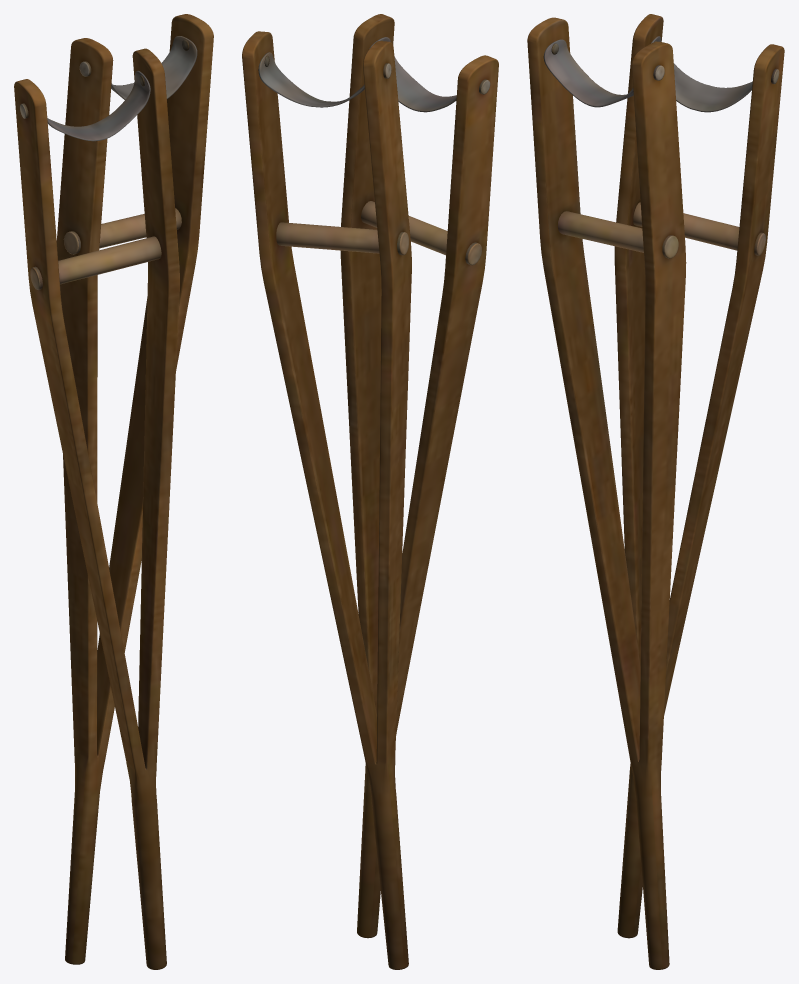
File: vintage_crutches_01.glb
The picture shows the model from 3 angles, left to right: view 1: azimuth 30°, elevation 25°; view 2: azimuth 150°, elevation 25°; view 3: azimuth 330°, elevation 25°; orthographic projection.
Visible parts, largest first — view 1: vintage_crutches_01_crutch01, vintage_crutches_01_crutch02; view 2: vintage_crutches_01_crutch02, vintage_crutches_01_crutch01; view 3: vintage_crutches_01_crutch01, vintage_crutches_01_crutch02.
Boxes of the visible parts, bbox=[...] form: vintage_crutches_01_crutch01: bbox=[14, 48, 179, 969]; vintage_crutches_01_crutch02: bbox=[56, 14, 213, 964]; vintage_crutches_01_crutch02: bbox=[242, 31, 411, 969]; vintage_crutches_01_crutch01: bbox=[340, 14, 498, 938]; vintage_crutches_01_crutch01: bbox=[527, 17, 686, 969]; vintage_crutches_01_crutch02: bbox=[614, 14, 784, 938].
Size of the model in its own units: 0.3837 by 1.6 by 0.2036.
Materials: 1 (1 with a texture image).
